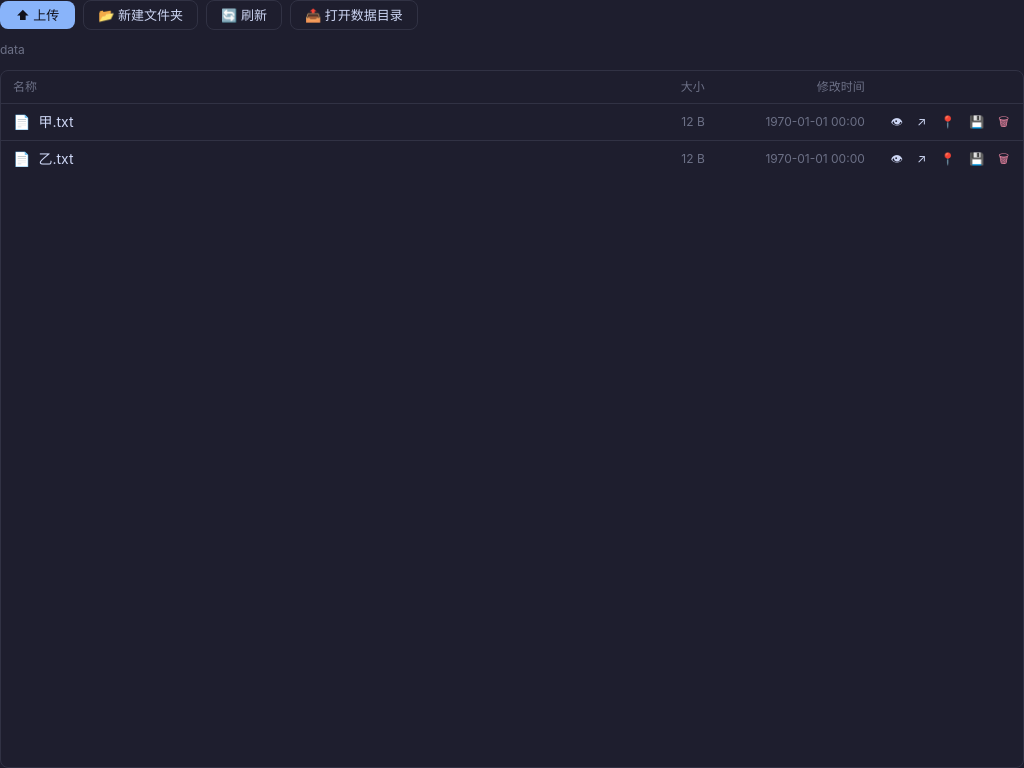
Test: §332 F1 四颗「在系统里打开」：失败回的是 resolve 的 {ok:false} ⇒ 必须各说一句 › 面板内那颗 ↗：失败有一句（第四颗键）
Check: the text "甲.txt" is shown, box [38, 112, 74, 132]
Click the button titled "预览" in the row of "甲.txt" at (897, 122), box [885, 110, 909, 134]
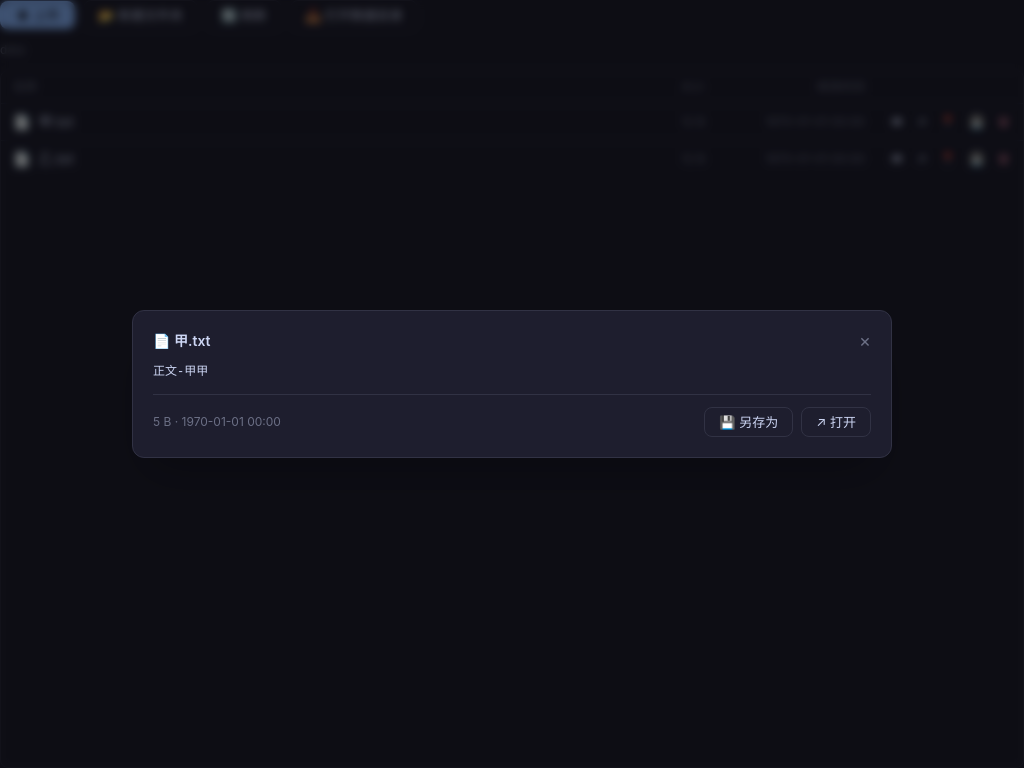
Click the button "↗ 打开" at (836, 422), box [801, 407, 871, 437]
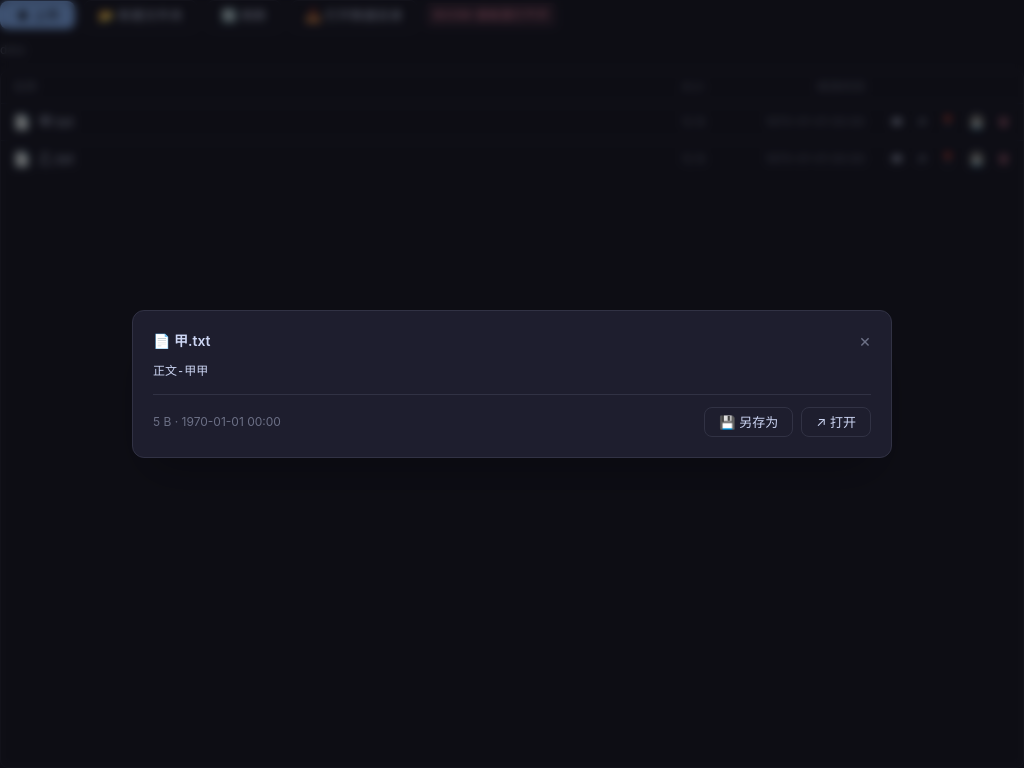
Check: the text "BOOM-面板里打不开" is shown, box [426, 3, 556, 27]
